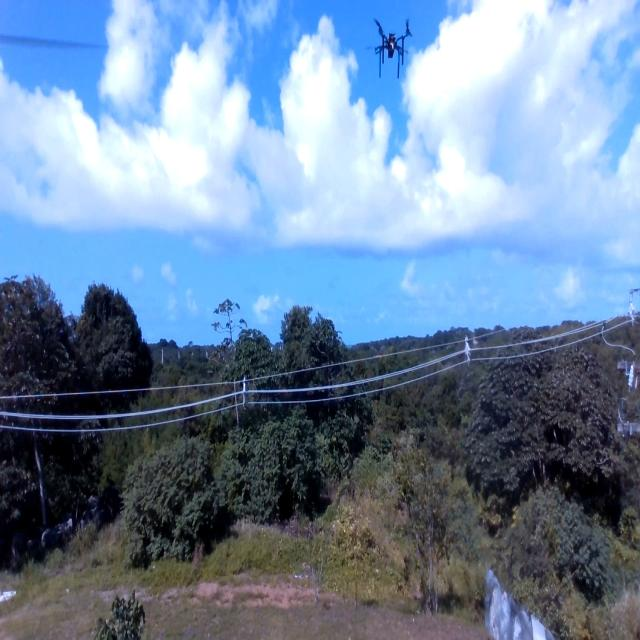-uav-: (365, 10, 419, 86)
